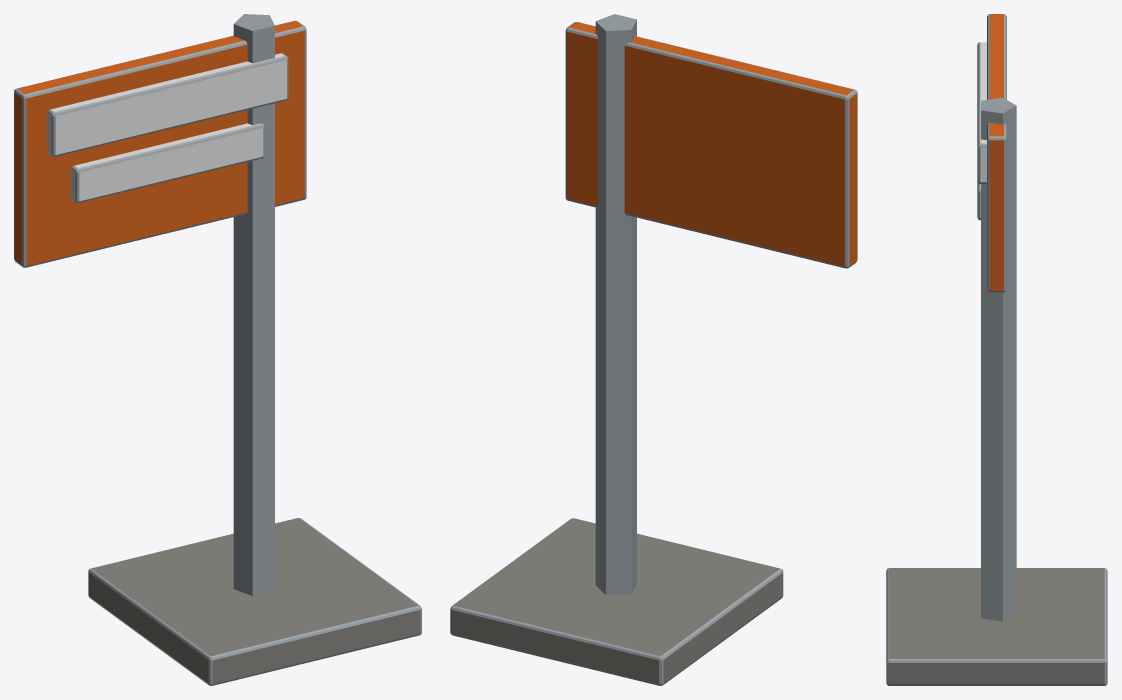
The model's file is prp_well_marker.glb.
The picture shows the model from 3 angles, left to right: view 1: azimuth 30°, elevation 25°; view 2: azimuth 150°, elevation 25°; view 3: azimuth 270°, elevation 25°; orthographic projection. The views are drawn at different scales.
Visible parts, largest first — view 1: prp_well_marker; view 2: prp_well_marker; view 3: prp_well_marker.
Part boxes in pixels (bbox=[...]): prp_well_marker: bbox=[14, 14, 421, 685]; prp_well_marker: bbox=[450, 14, 857, 685]; prp_well_marker: bbox=[886, 14, 1107, 685].
Bounding box in the file's own units: 1.45 × 2.4 × 0.9.
